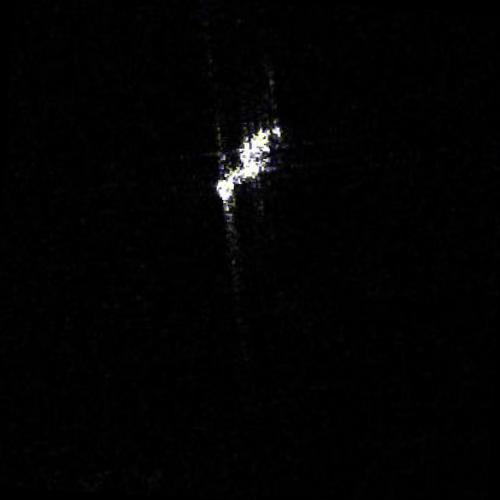ship: (214, 125, 282, 206)
